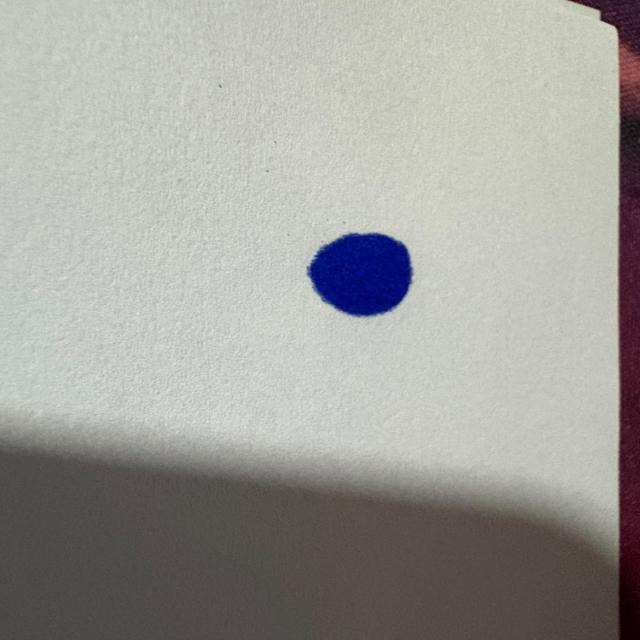Circle: (305, 226, 422, 322)
